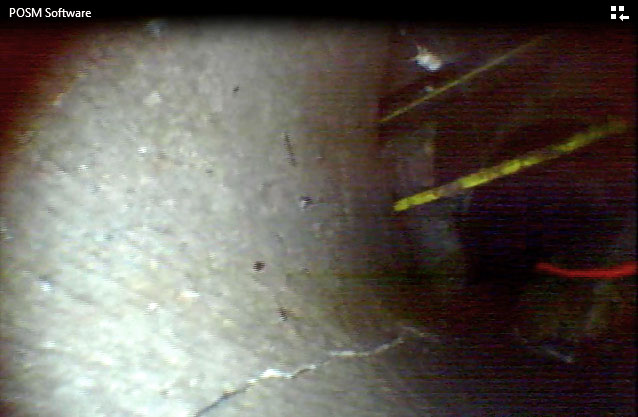cb: (354, 28, 587, 141), (374, 124, 623, 224)
